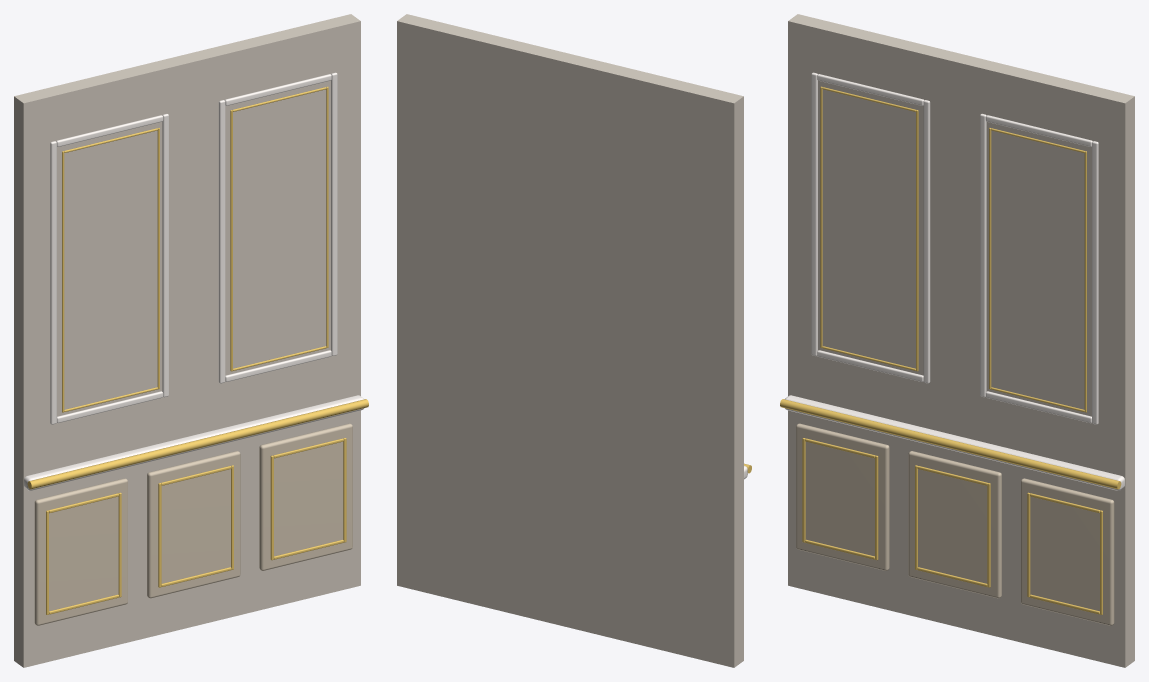
File: wall_panel.glb
3 views of the same model, side by side, from view 1: azimuth 30°, elevation 25°; view 2: azimuth 150°, elevation 25°; view 3: azimuth 330°, elevation 25° (orthographic).
Parts seen in each view (by area): view 1: wall_panel; view 2: wall_panel; view 3: wall_panel.
Part boxes in pixels (x1,y1,x2,y2): wall_panel: (14, 14, 368, 667); wall_panel: (397, 14, 751, 667); wall_panel: (780, 14, 1134, 667).
Size of the model in its own units: 2 by 3.2 by 0.1829.
